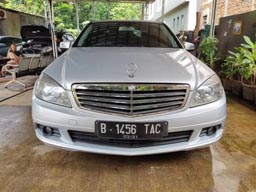plat: (96, 120, 166, 134)
